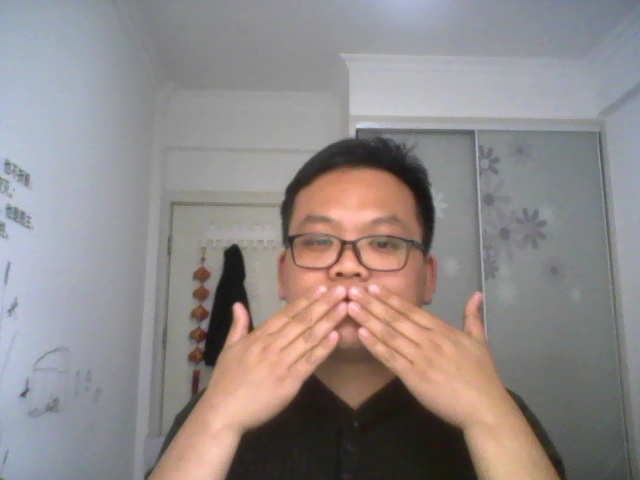Thank You: (204, 279, 506, 422)
